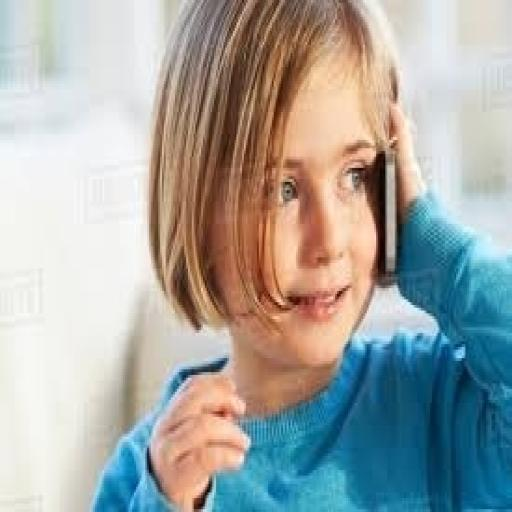calling: (86, 0, 510, 509)
